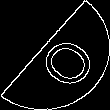O_NW: (18, 22, 92, 88)
